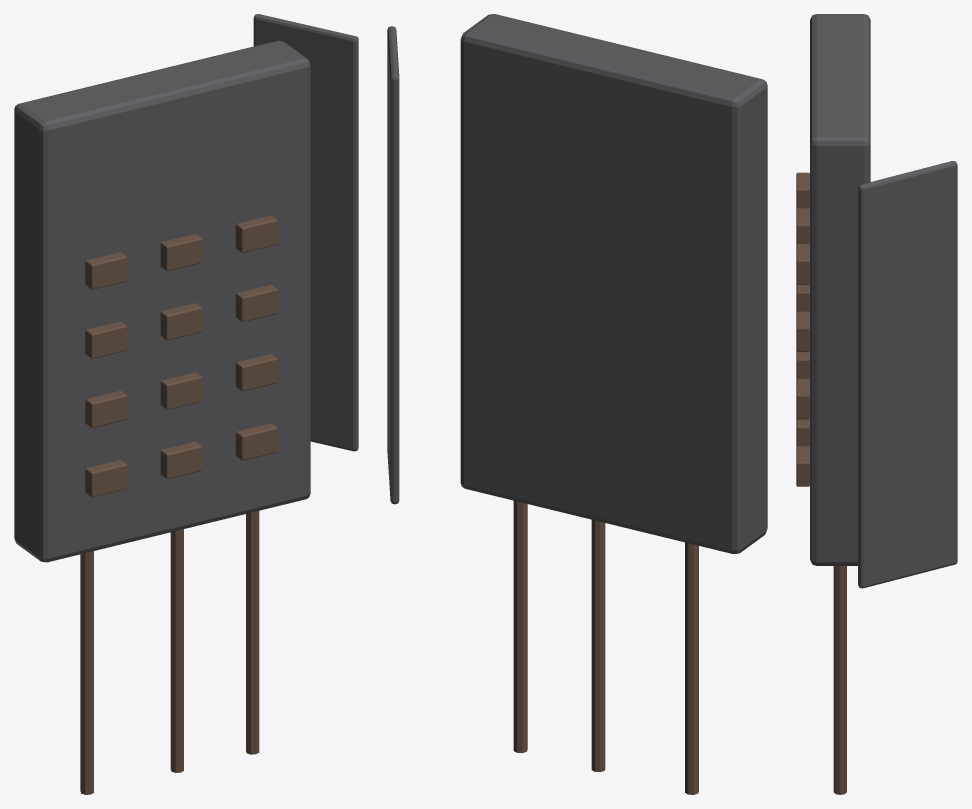
3 views of the same model, side by side, from view 1: azimuth 30°, elevation 25°; view 2: azimuth 150°, elevation 25°; view 3: azimuth 270°, elevation 25° (orthographic). The views are drawn at different scales.
Parts seen in each view (by area): view 1: breakerPanel; view 2: breakerPanel; view 3: breakerPanel.
Part boxes in pixels (x1=…): breakerPanel: x1=14, y1=14, x2=358, y2=794; breakerPanel: x1=387, y1=14, x2=767, y2=794; breakerPanel: x1=796, y1=14, x2=957, y2=794.
Bounding box in the file's own units: 1.14 × 2.2 × 0.4769.
